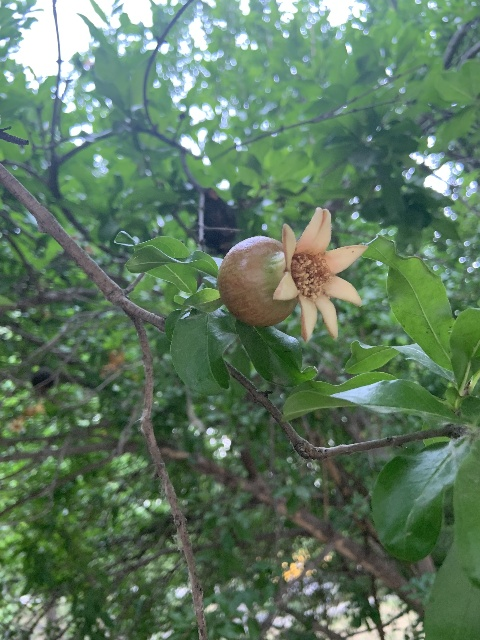early-fruit: (216, 206, 368, 343)
